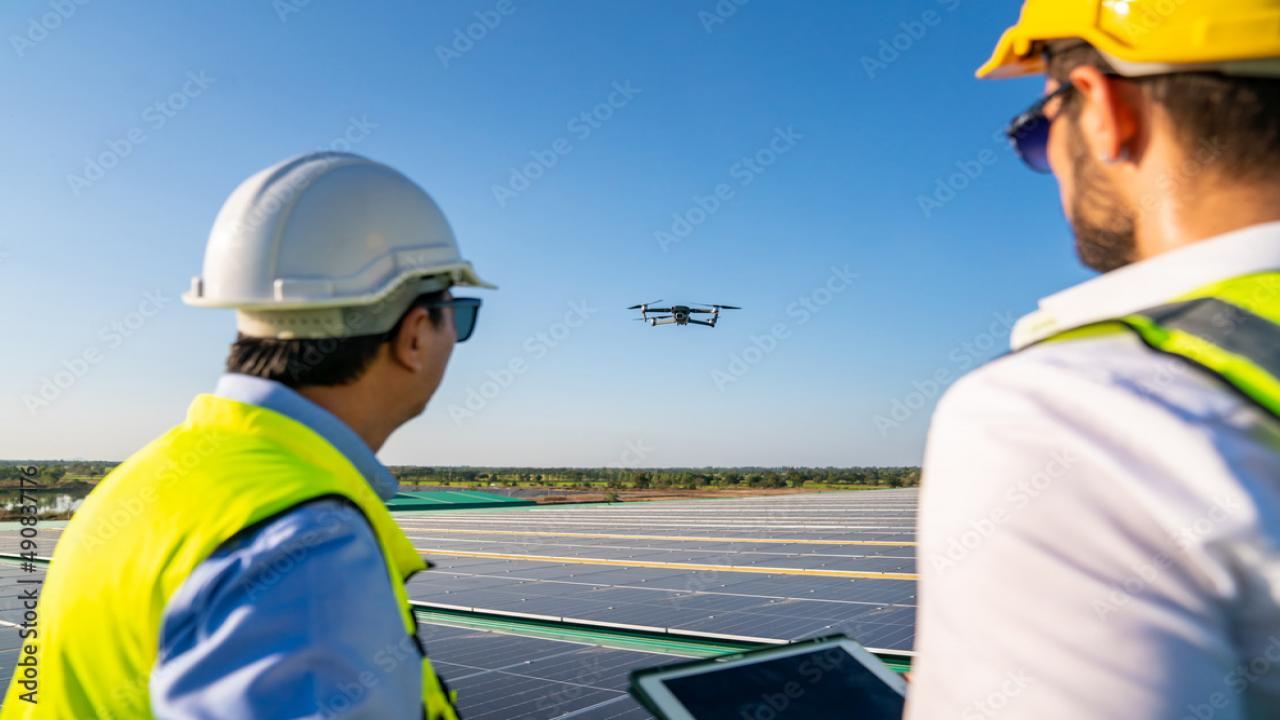Drone: (613, 286, 751, 340)
